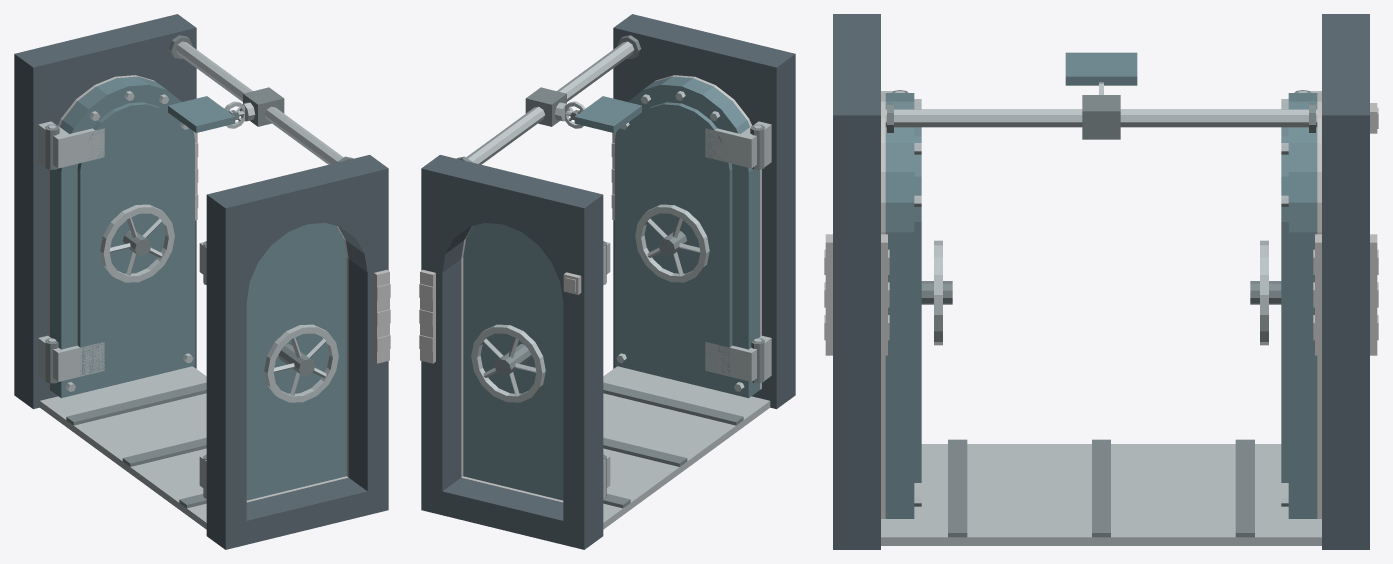
Rendered from body.obj.
3 renders of one model, left to right at view 1: azimuth 30°, elevation 25°; view 2: azimuth 150°, elevation 25°; view 3: azimuth 270°, elevation 25°, orthographic. The views are drawn at different scales.
Bounding box in the file's own units: 1 × 2 × 2.31.
